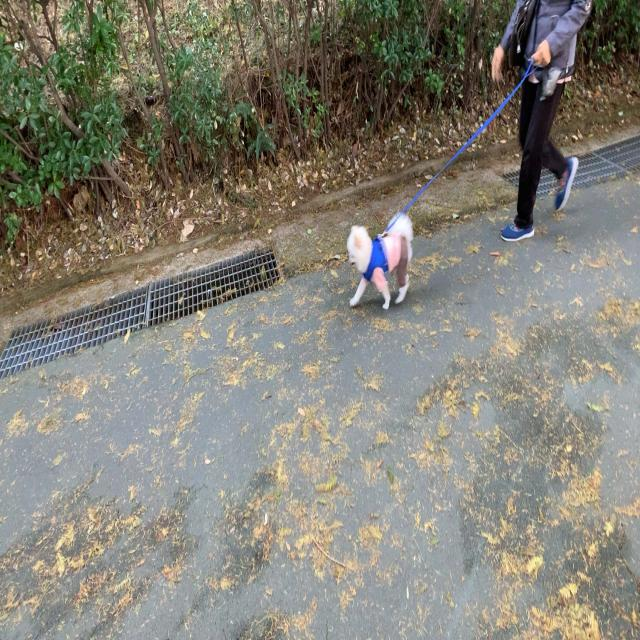Leashed_Dog: (347, 39, 557, 309)
